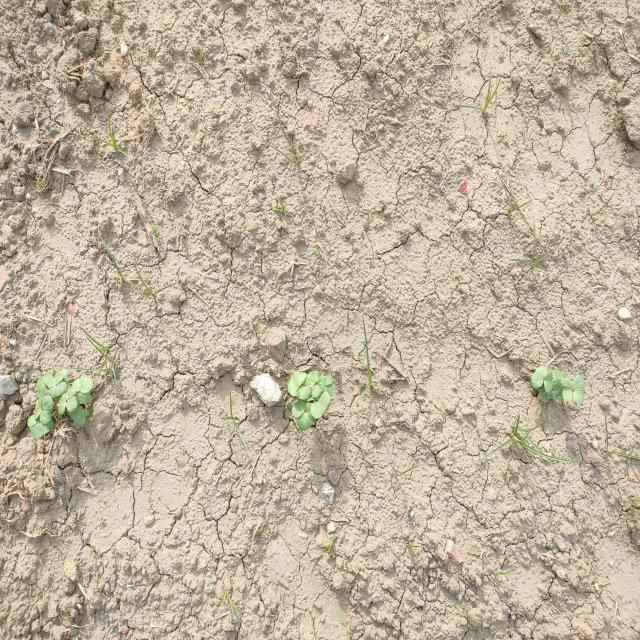seedling_s2: (310, 391, 330, 420), (297, 403, 316, 430), (31, 418, 54, 439), (531, 365, 548, 388), (40, 395, 53, 425), (288, 372, 306, 393), (311, 375, 327, 398), (573, 376, 585, 405), (48, 381, 67, 399), (71, 378, 93, 393), (292, 399, 310, 417), (290, 386, 311, 400), (561, 378, 573, 402), (66, 387, 77, 412), (552, 378, 563, 403), (74, 409, 89, 427), (305, 371, 321, 387), (36, 376, 46, 400), (47, 375, 63, 389), (58, 393, 67, 415), (544, 371, 553, 393), (76, 392, 91, 405), (68, 405, 81, 420), (35, 397, 43, 420), (60, 369, 69, 389), (324, 383, 336, 398), (552, 370, 567, 382), (538, 388, 549, 403), (27, 414, 39, 427), (43, 373, 53, 386), (547, 388, 555, 399), (324, 376, 333, 385), (53, 371, 60, 379)
